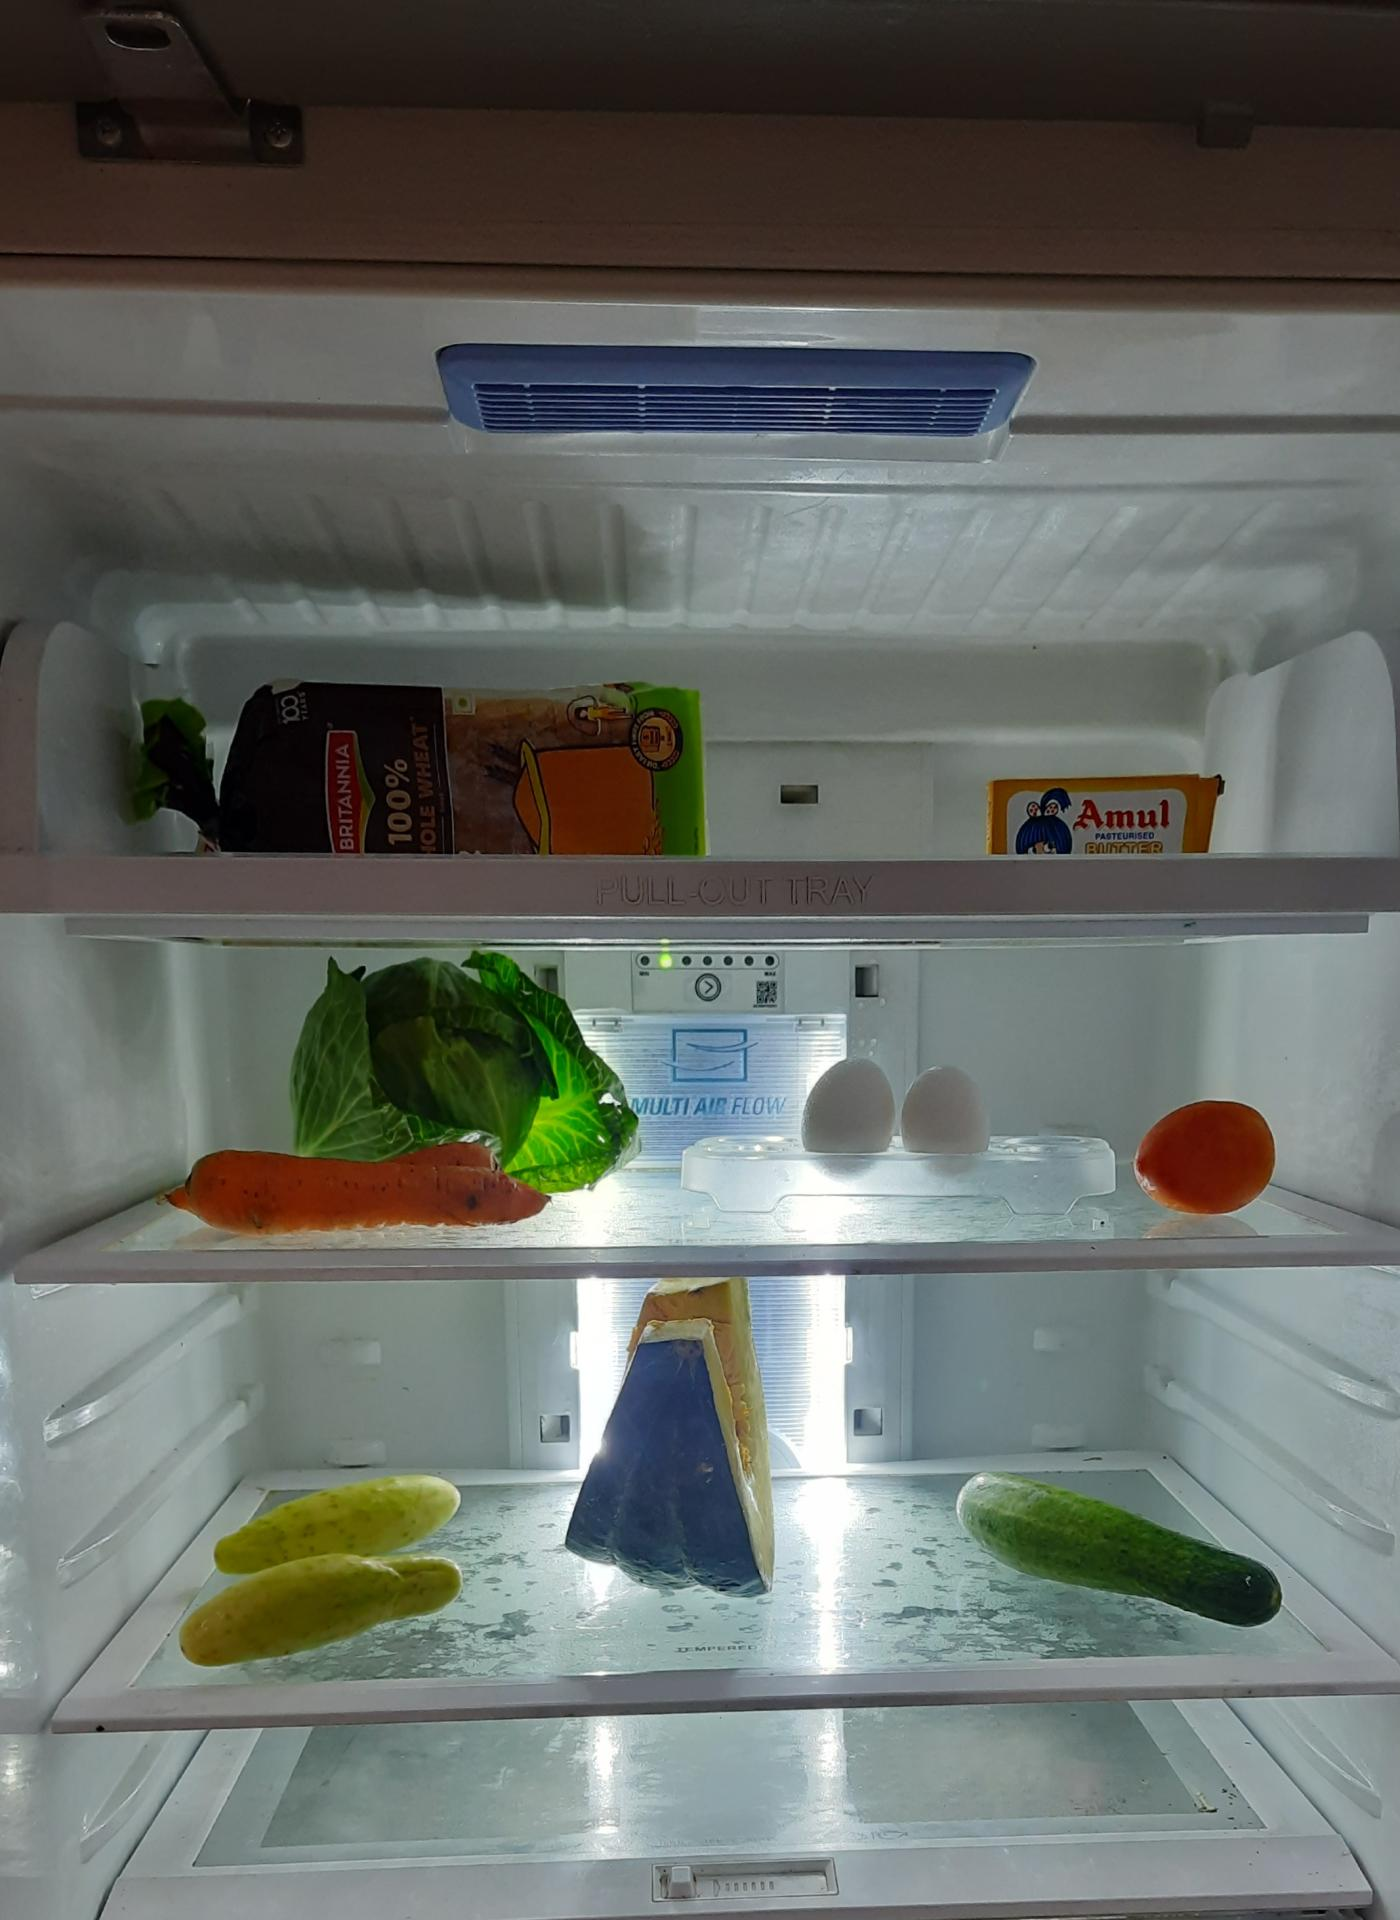bread: (134, 683, 707, 866)
butter: (987, 775, 1227, 868)
cabbage: (285, 954, 631, 1175)
carrots: (173, 1134, 541, 1227)
cucumber: (177, 1474, 465, 1664), (947, 1483, 1282, 1643)
egg: (804, 1064, 994, 1166)
pumpkin: (574, 1279, 786, 1602)
tomato: (1133, 1097, 1282, 1215)
